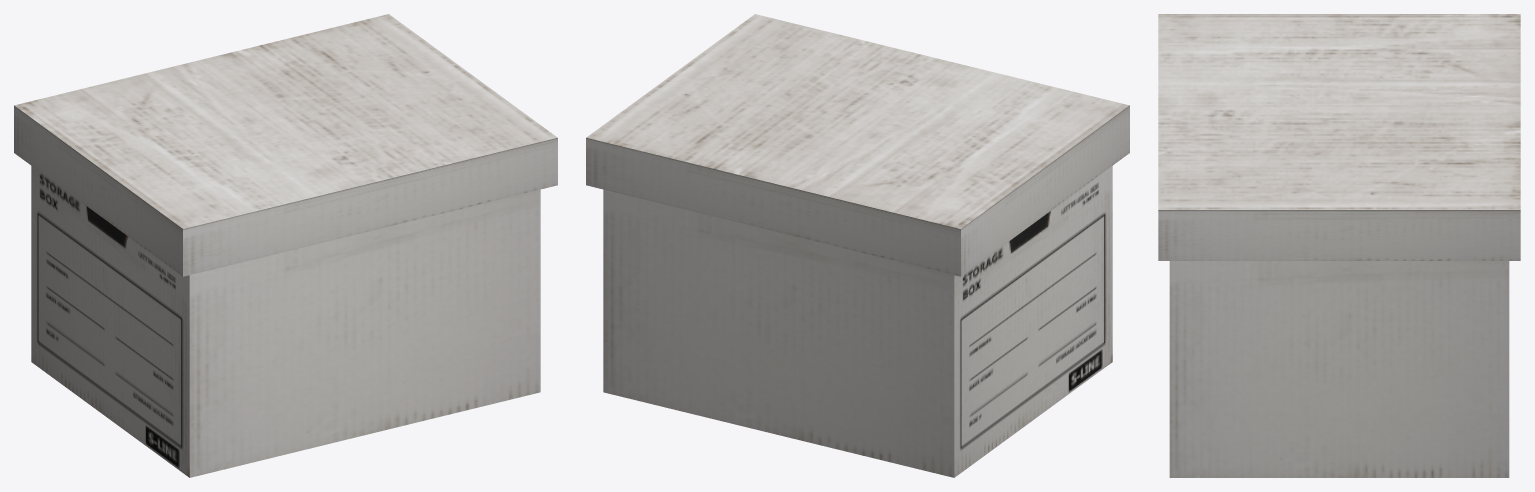
File: StorageBox.FBX
The picture shows the model from 3 angles, left to right: view 1: azimuth 30°, elevation 25°; view 2: azimuth 150°, elevation 25°; view 3: azimuth 270°, elevation 25°; orthographic projection. The views are drawn at different scales.
Visible parts, largest first — view 1: StorageBox; view 2: StorageBox; view 3: StorageBox.
Boxes of the visible parts, x1,y1,x2,y2 form: StorageBox: (14,14,557,477); StorageBox: (586,14,1129,477); StorageBox: (1158,14,1520,477).
Bounding box in the file's own units: 0.4591 × 0.3587 × 0.2993.
Materials: 1 (1 with a texture image).
